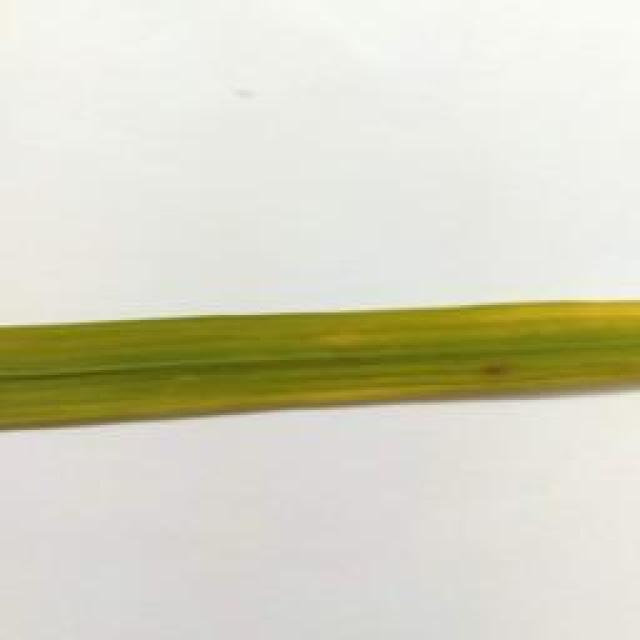Brown_Spot: (479, 361, 532, 389)
